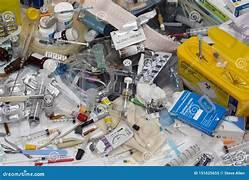Syringe: (20, 128, 58, 141), (28, 99, 43, 127), (224, 141, 248, 152)
